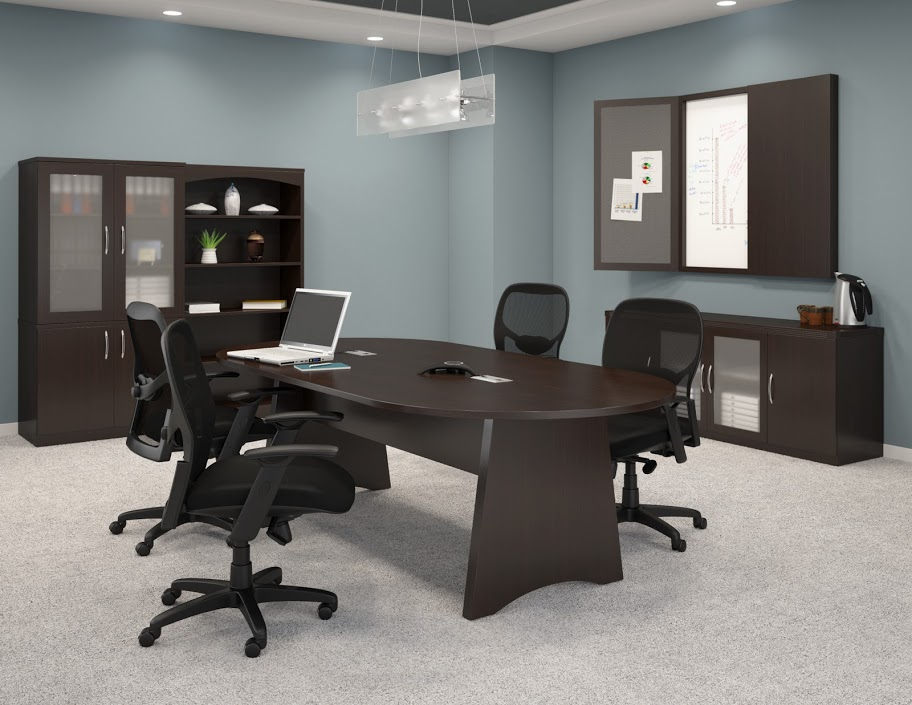conference_table: (216, 338, 678, 625)
